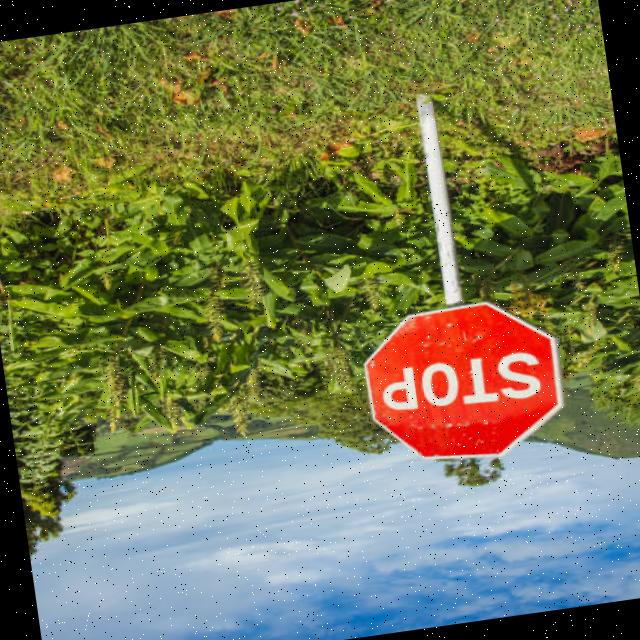stop: (340, 287, 576, 478)
